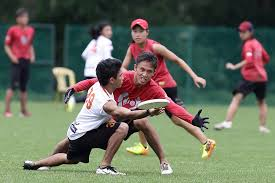disc: (137, 98, 170, 109)
